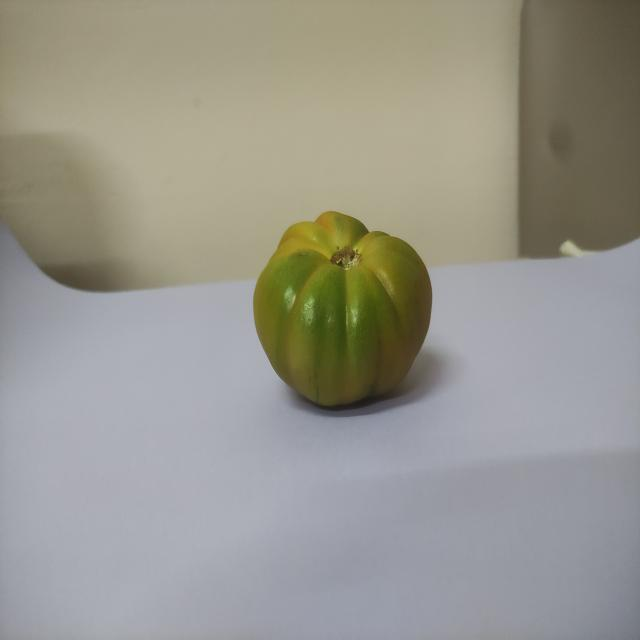yesil: (244, 175, 443, 415)
